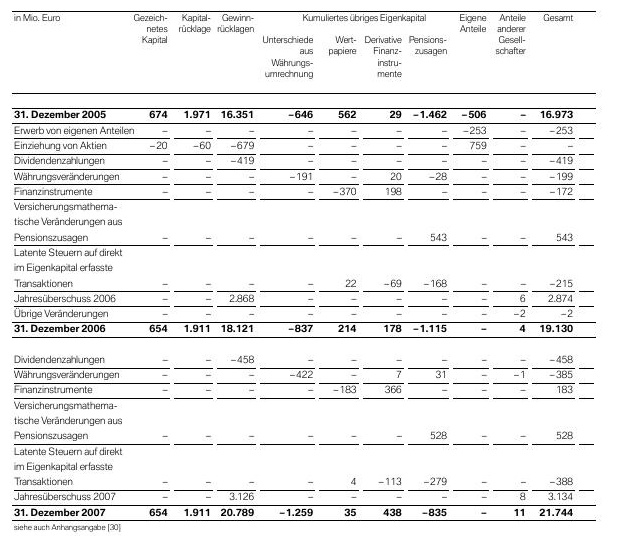table: (0, 0, 619, 536)
